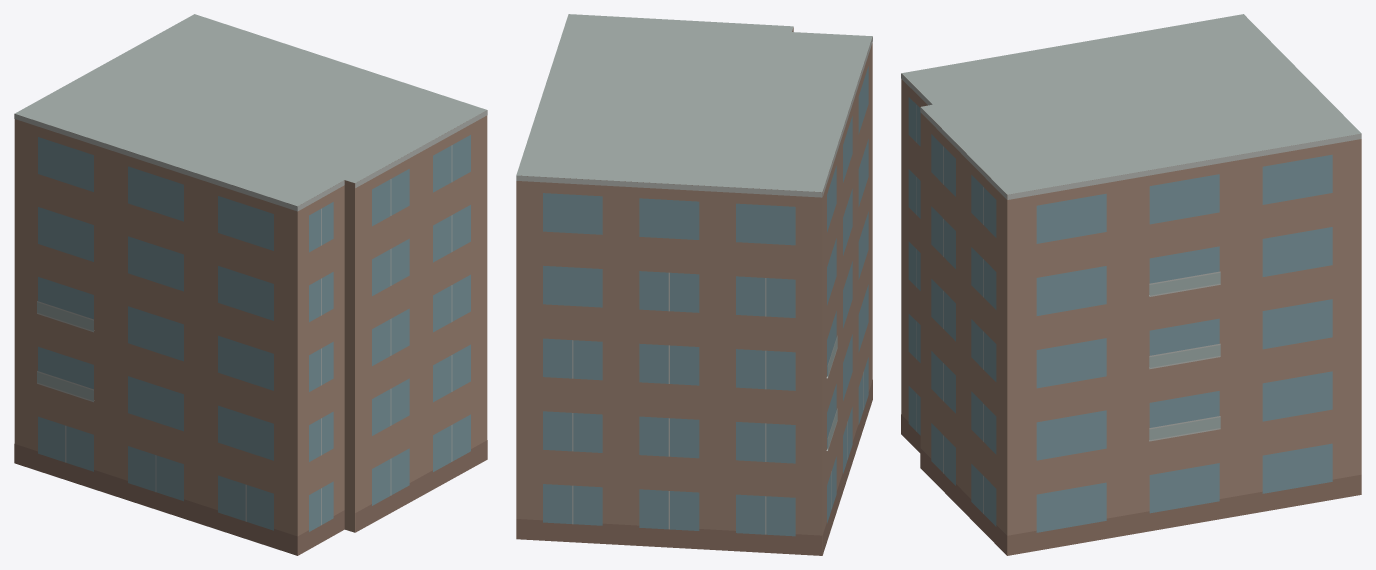
File: survey-upis-32860439.glb
3 views of the same model, side by side, from view 1: azimuth 30°, elevation 25°; view 2: azimuth 150°, elevation 25°; view 3: azimuth 270°, elevation 25° (orthographic). The views are drawn at different scales.
Visible parts, largest first — view 1: survey-upis-32860439.tmp; view 2: survey-upis-32860439.tmp; view 3: survey-upis-32860439.tmp.
Boxes of the visible parts, x1,y1,x2,y2 form: survey-upis-32860439.tmp: (14,14,487,555); survey-upis-32860439.tmp: (516,14,872,555); survey-upis-32860439.tmp: (901,14,1361,555).
Size of the model in its own units: 17.72 by 16.5 by 19.08.
